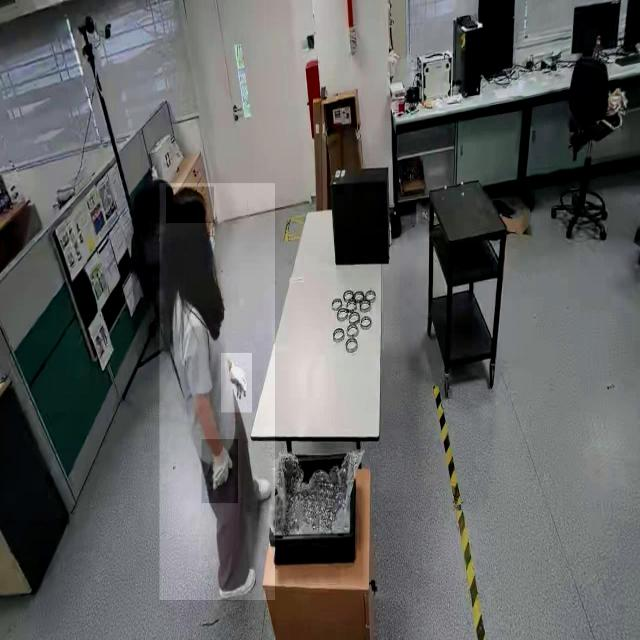hand_glove: (201, 439, 238, 504), (221, 353, 252, 412)
head_nohelmet: (166, 187, 214, 224)
person: (159, 183, 275, 601)
